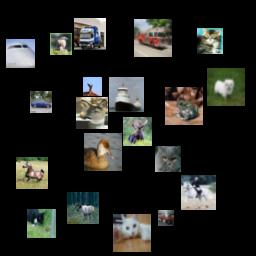airplane: (6, 39, 35, 68)
automobile: (30, 91, 52, 113), (158, 210, 174, 226)
bird: (84, 133, 122, 171), (50, 33, 72, 55), (83, 77, 102, 96)
cat: (113, 214, 151, 252), (27, 209, 56, 238), (197, 28, 223, 54), (155, 146, 181, 172)
deer: (67, 192, 99, 224), (76, 97, 108, 129), (123, 117, 152, 146)
dog: (207, 68, 245, 106)
frog: (165, 87, 203, 125)
ship: (109, 77, 144, 112)
truck: (134, 19, 172, 57), (74, 18, 106, 50)
